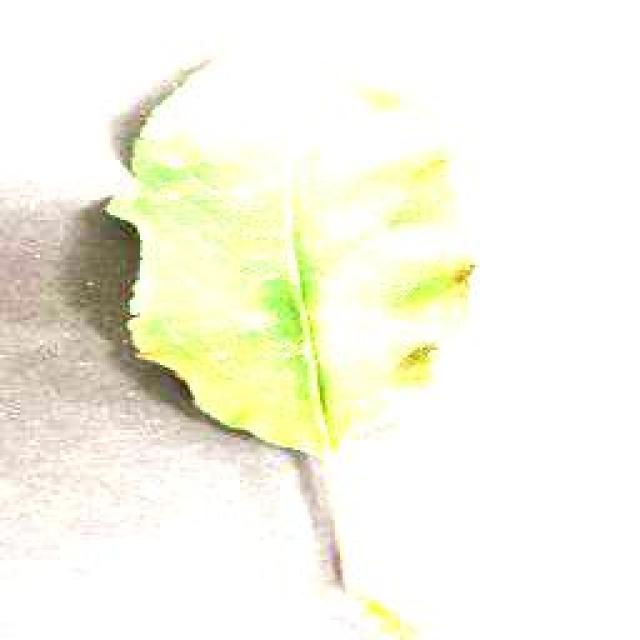apple rust disease: (100, 50, 480, 462)
